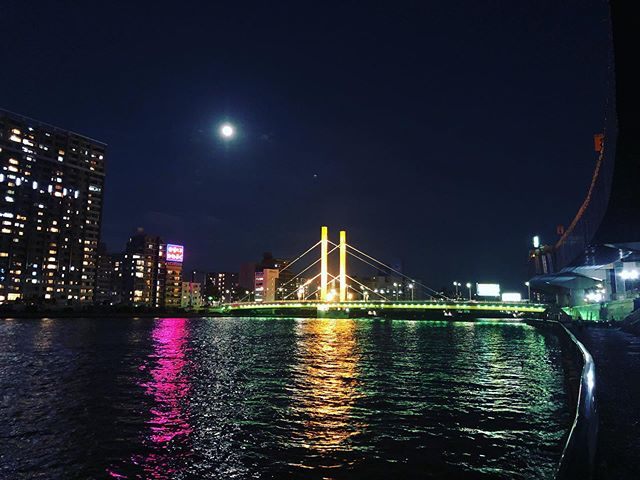bridge: (213, 279, 543, 324)
building: (1, 114, 115, 311), (125, 230, 186, 304)
river: (1, 325, 555, 480)
sky: (41, 1, 640, 244)
